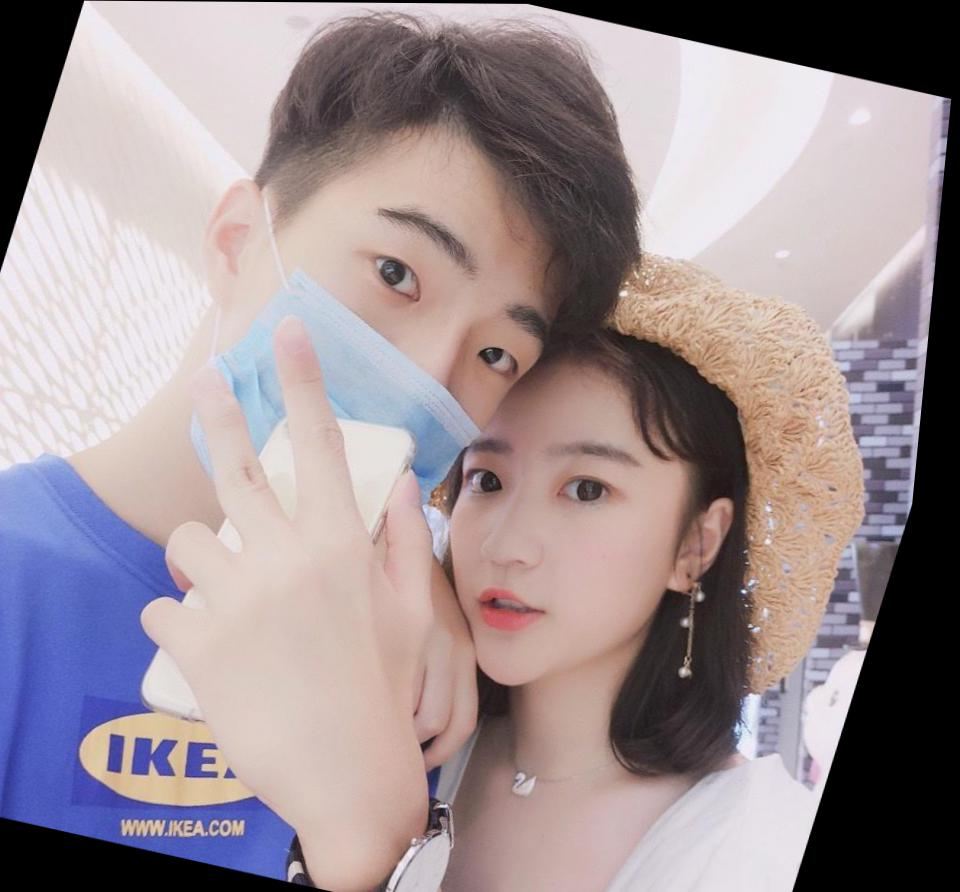NONE: (415, 406, 721, 718)
WRONG: (180, 165, 583, 577)
